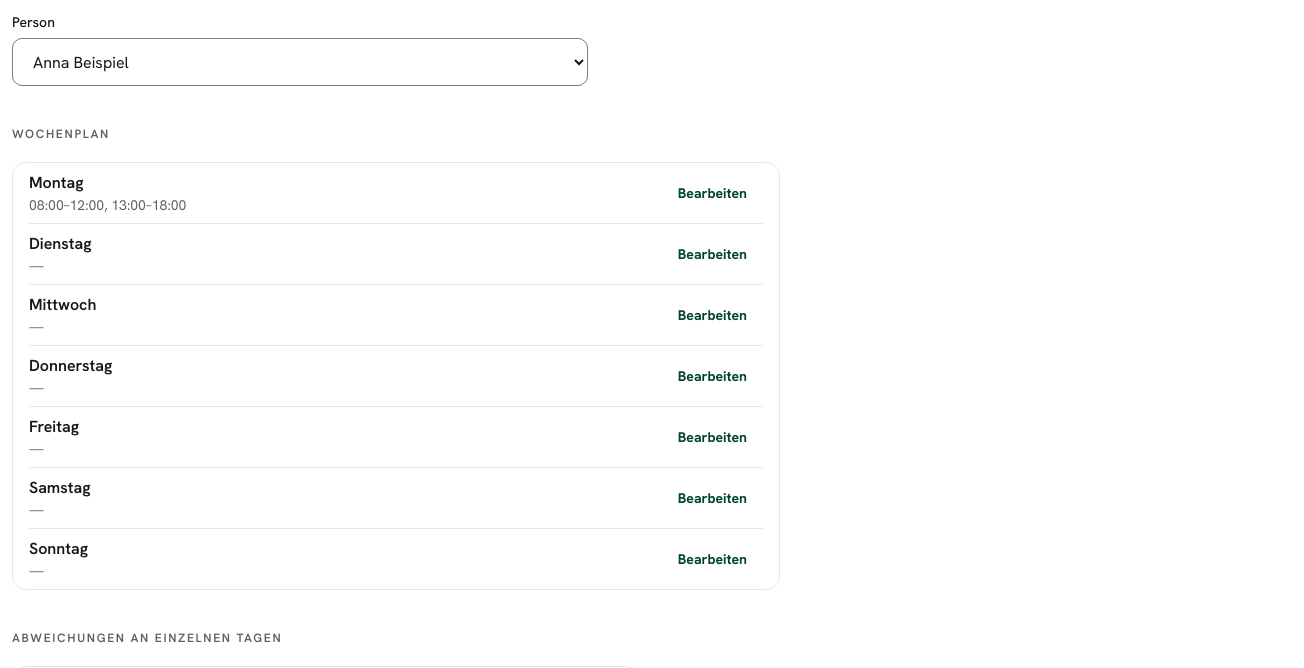
ArbeitszeitJePerson (ORG-003) › Wochenplan › beschriftet von und bis kurz und liest Tag, Block und Nummer vor (ANN-489, Design-Review T6)
Click the button "Bearbeiten" in the row of "Montag" at (712, 193), box [662,171,763,215]
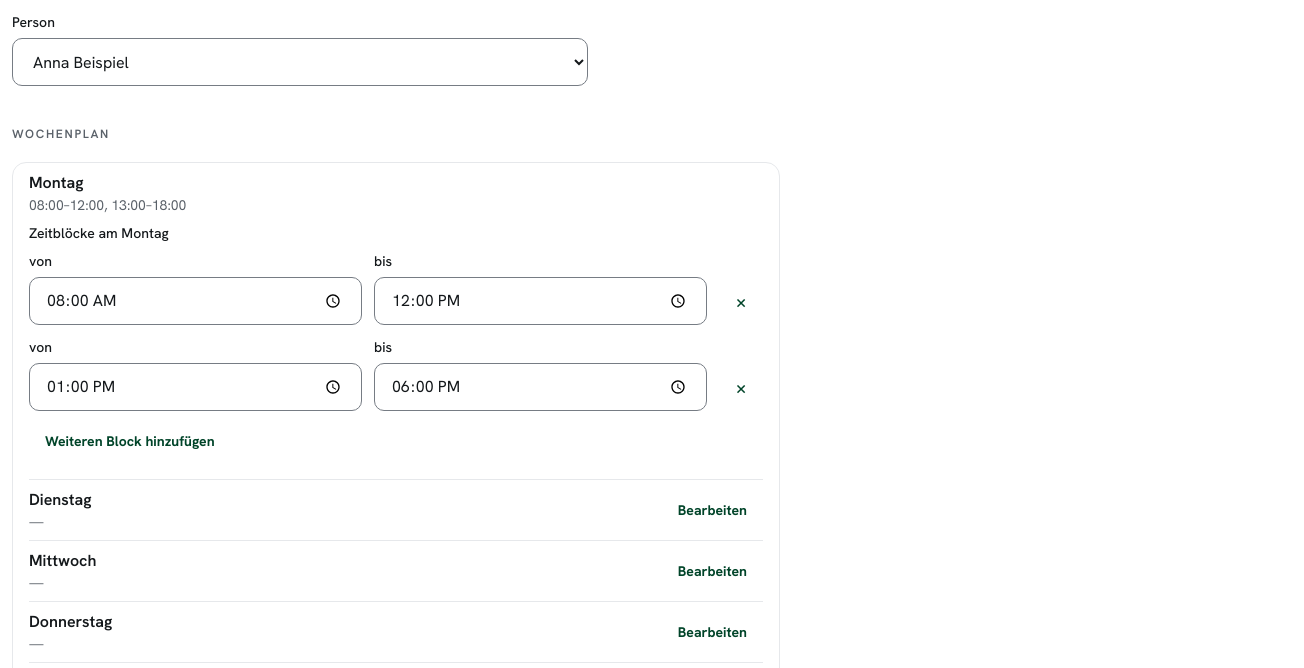
Expected: the 1st label "von" is shown, [29,252,52,270]
